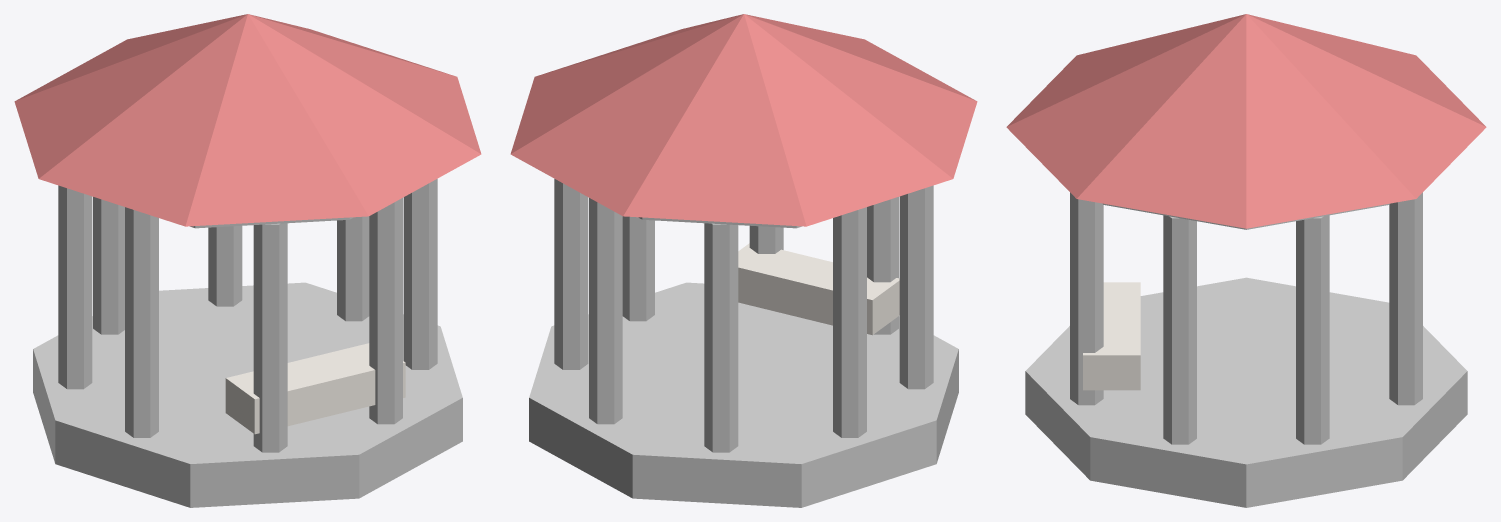
The model's file is bandstand.glb.
3 views of the same model, side by side, from view 1: azimuth 30°, elevation 25°; view 2: azimuth 150°, elevation 25°; view 3: azimuth 270°, elevation 25° (orthographic).
Parts seen in each view (by area): view 1: park-bandstand; view 2: park-bandstand; view 3: park-bandstand.
Part boxes in pixels (bbox=[...]): park-bandstand: bbox=[14, 14, 481, 507]; park-bandstand: bbox=[510, 14, 977, 507]; park-bandstand: bbox=[1006, 14, 1486, 507].
Size of the model in its own units: 0.7 by 0.644 by 0.7.
